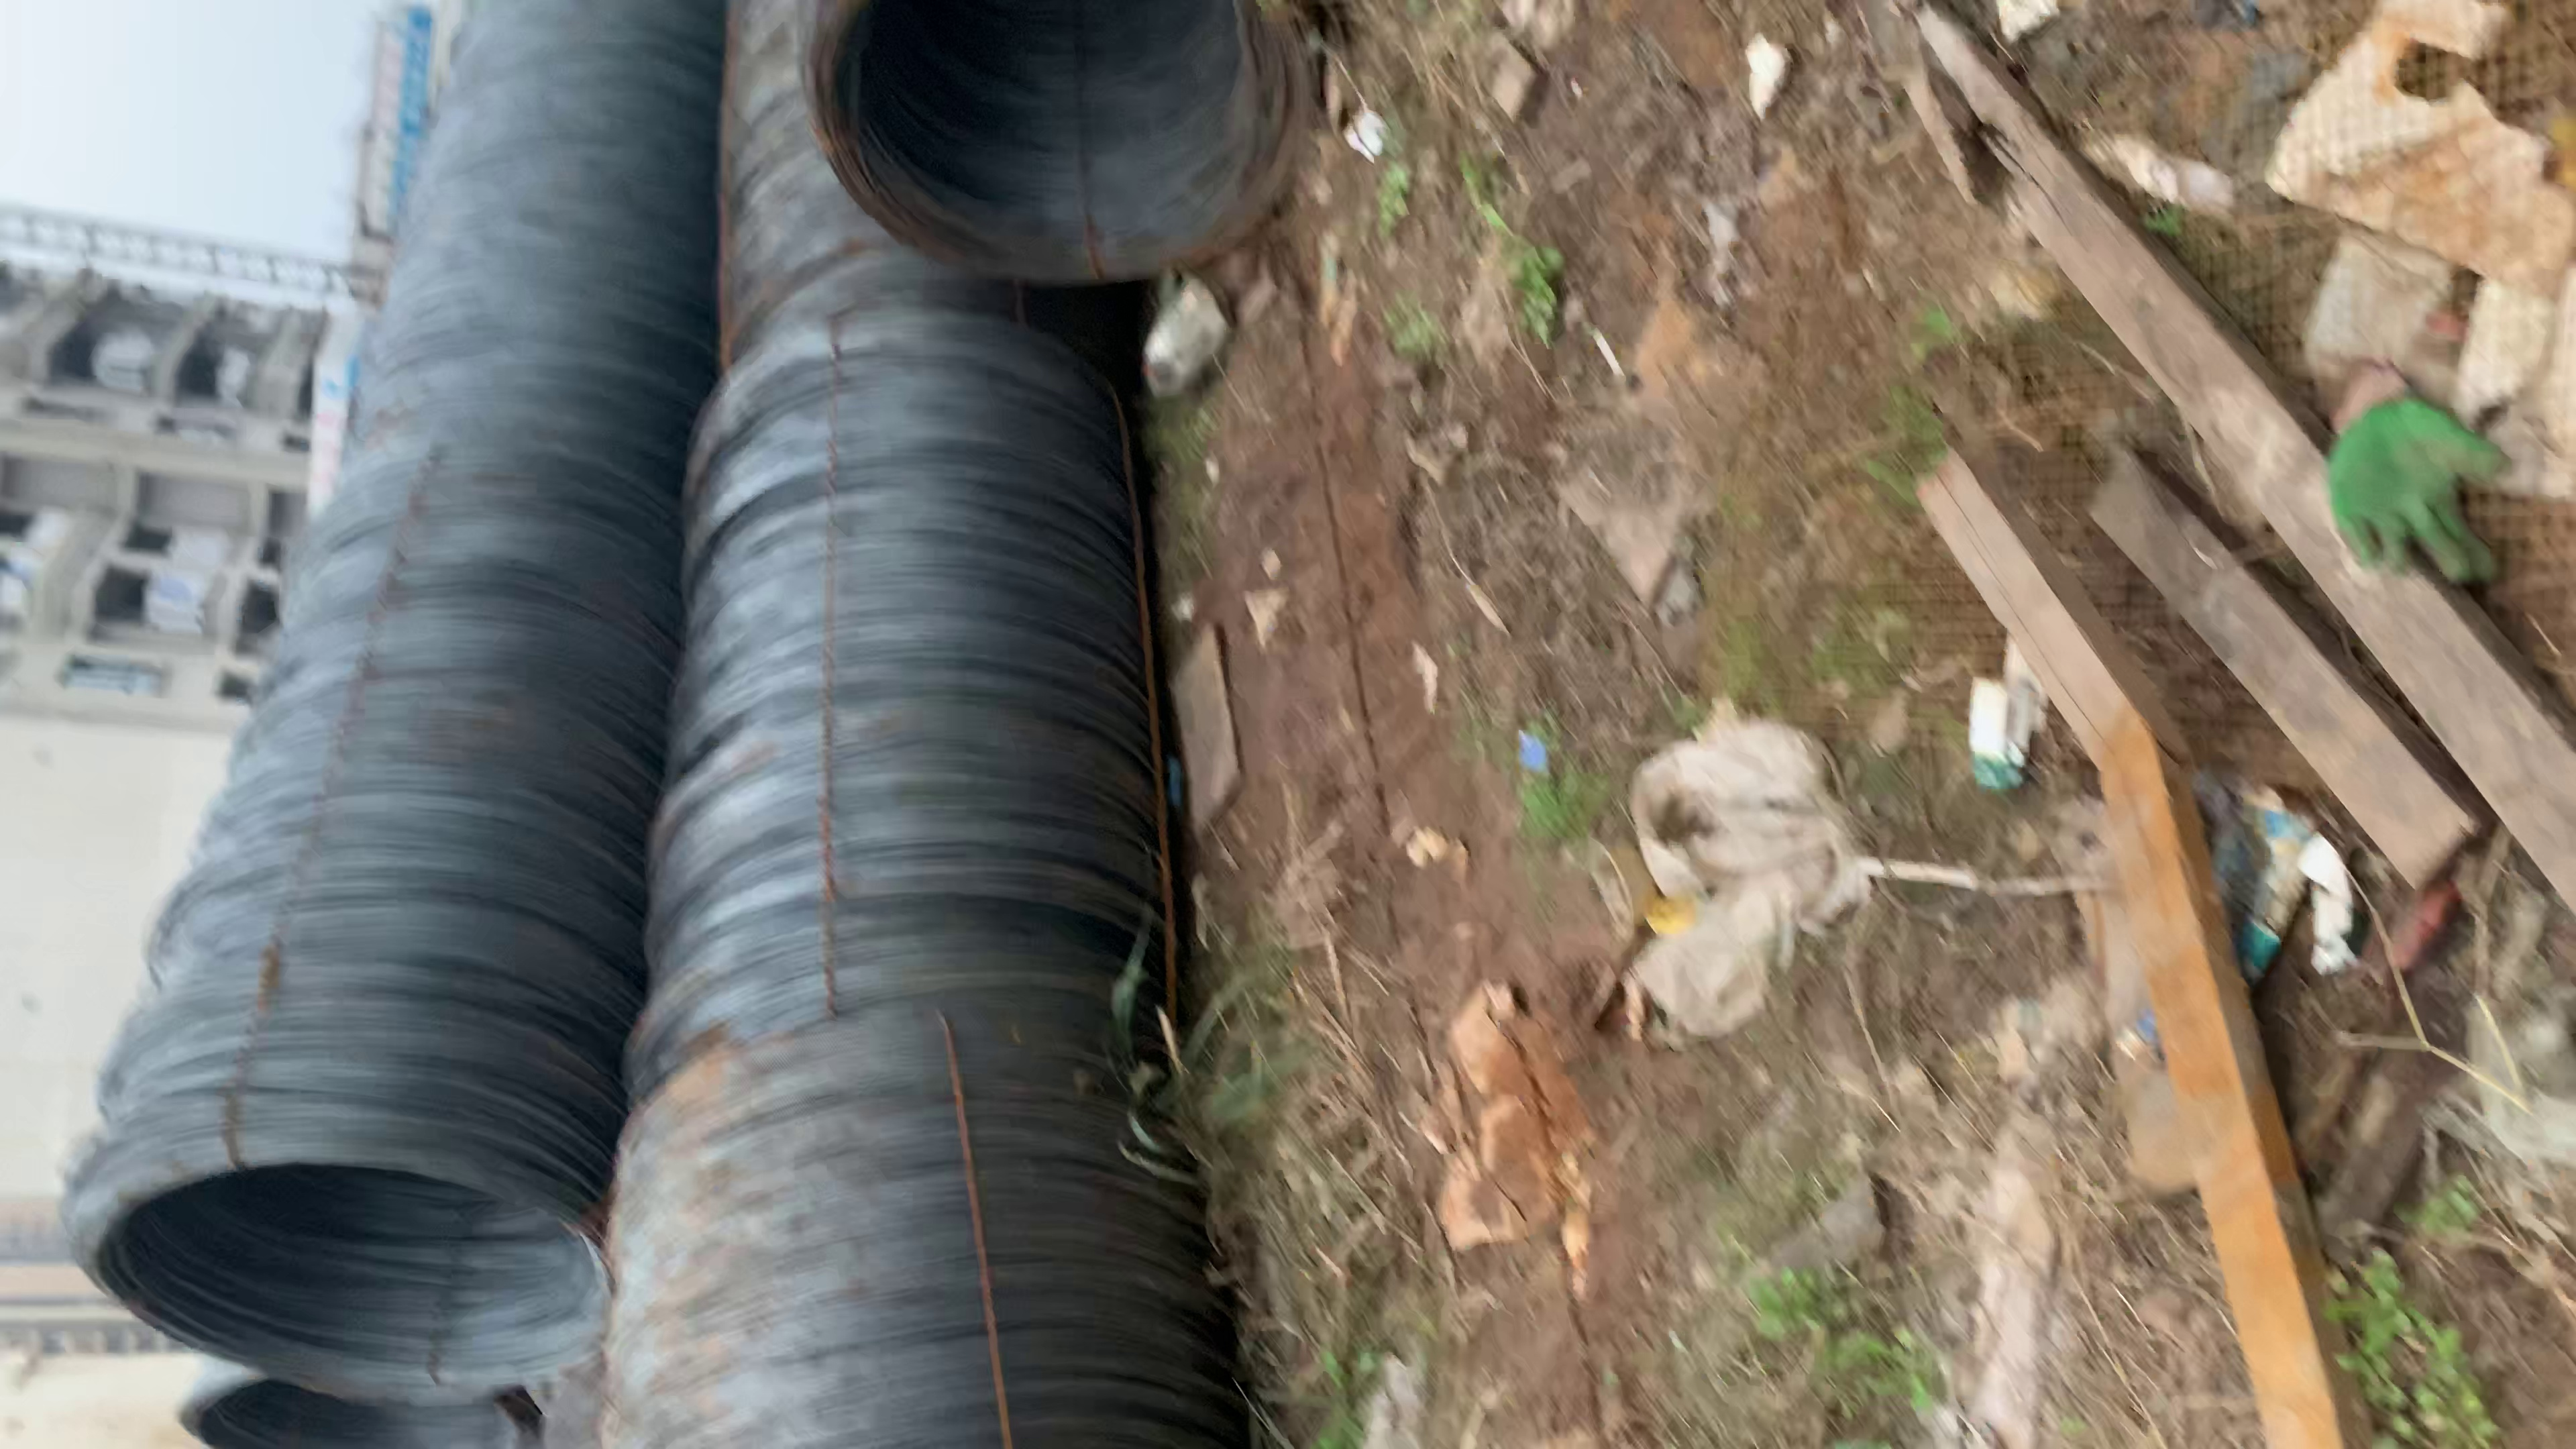coil: (648, 317, 1224, 975), (621, 1024, 1208, 1449), (796, 0, 1318, 290), (73, 1132, 621, 1408), (163, 1378, 547, 1449)
